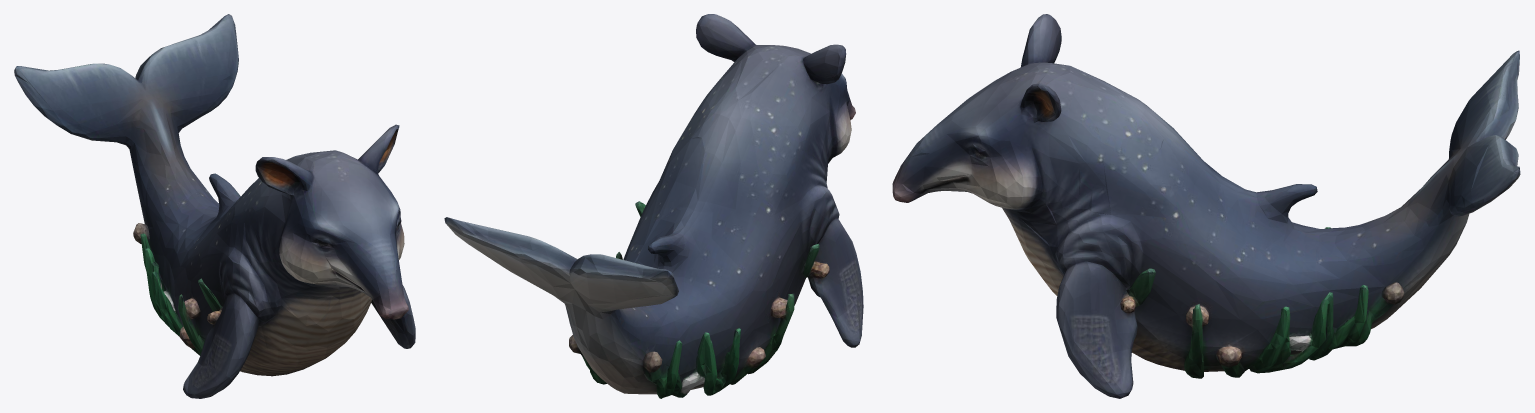
Rendered from bakuroth.glb.
The picture shows the model from 3 angles, left to right: view 1: azimuth 30°, elevation 25°; view 2: azimuth 150°, elevation 25°; view 3: azimuth 270°, elevation 25°; orthographic projection. The views are drawn at different scales.
Parts seen in each view (by area): view 1: world; view 2: world; view 3: world.
Part boxes in pixels (bbox=[...]): world: bbox=[14, 14, 415, 398]; world: bbox=[444, 14, 863, 398]; world: bbox=[892, 14, 1520, 398].
Size of the model in its own units: 0.4717 by 0.5479 by 0.9993.
Materials: 1 (1 with a texture image).
